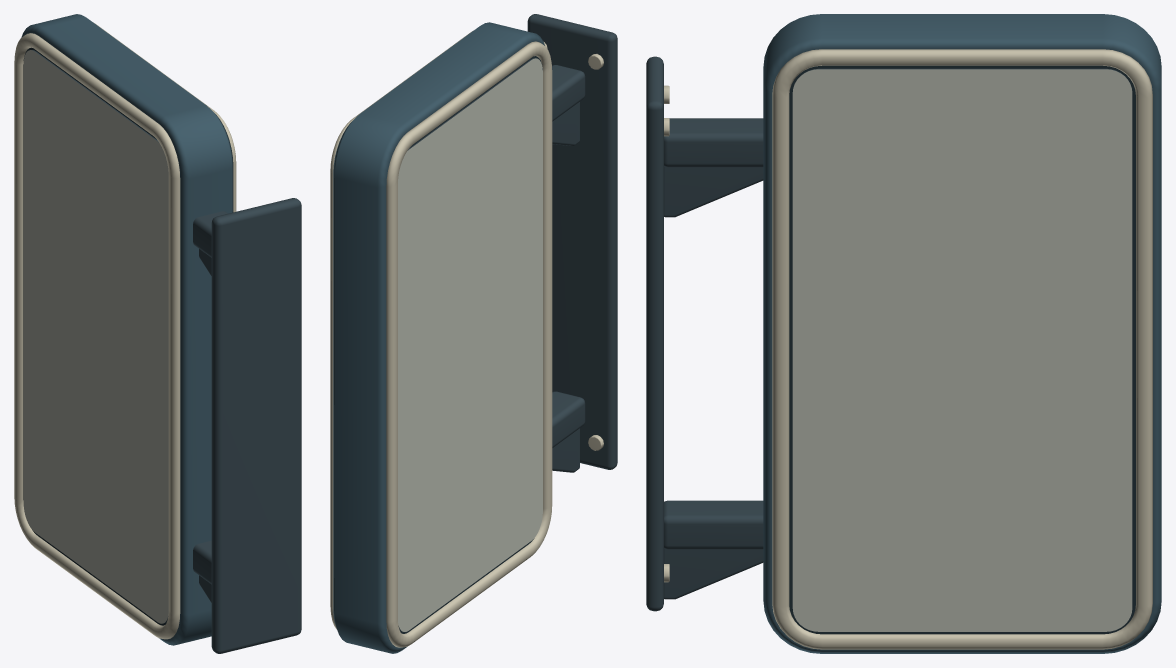
File: city_shop_fittings_08.glb
The picture shows the model from 3 angles, left to right: view 1: azimuth 30°, elevation 25°; view 2: azimuth 150°, elevation 25°; view 3: azimuth 270°, elevation 25°; orthographic projection. The views are drawn at different scales.
Parts seen in each view (by area): view 1: face_negative_x, wall_backplate, formed_blade_shell, continuous_trim_negative_x, dark_reveal_negative_x, cantilever_arm_upper, cantilever_arm_lower, continuous_trim_positive_x; view 2: face_negative_x, formed_blade_shell, wall_backplate, continuous_trim_negative_x, continuous_trim_positive_x, cantilever_arm_upper, cantilever_arm_lower, tapered_gusset_lower, tapered_gusset_upper, dark_reveal_negative_x; view 3: face_positive_x, continuous_trim_positive_x, formed_blade_shell, wall_backplate, dark_reveal_positive_x, cantilever_arm_lower, cantilever_arm_upper, tapered_gusset_upper, tapered_gusset_lower.
Part boxes in pixels (x1,y1,x2,y2): face_negative_x: [23, 50, 168, 623]; wall_backplate: [211, 198, 301, 653]; formed_blade_shell: [21, 14, 233, 645]; continuous_trim_negative_x: [14, 33, 180, 639]; dark_reveal_negative_x: [23, 47, 166, 625]; cantilever_arm_upper: [193, 211, 227, 257]; cantilever_arm_lower: [193, 540, 211, 584]; continuous_trim_positive_x: [93, 22, 236, 212]; face_negative_x: [398, 58, 542, 631]; formed_blade_shell: [333, 22, 544, 653]; wall_backplate: [527, 14, 617, 469]; continuous_trim_negative_x: [386, 41, 552, 647]; continuous_trim_positive_x: [330, 30, 473, 629]; cantilever_arm_upper: [552, 65, 585, 121]; cantilever_arm_lower: [552, 391, 585, 447]; tapered_gusset_lower: [552, 428, 579, 472]; tapered_gusset_upper: [552, 102, 579, 145]; dark_reveal_negative_x: [399, 56, 542, 633]; face_positive_x: [792, 68, 1132, 631]; continuous_trim_positive_x: [772, 49, 1152, 649]; formed_blade_shell: [763, 14, 1161, 653]; wall_backplate: [646, 56, 663, 611]; dark_reveal_positive_x: [789, 65, 1135, 634]; cantilever_arm_lower: [664, 500, 763, 549]; cantilever_arm_upper: [664, 118, 763, 167]; tapered_gusset_upper: [664, 166, 763, 217]; tapered_gusset_lower: [664, 548, 763, 599].
Size of the model in its own units: 0.2 by 1.16 by 0.88.
